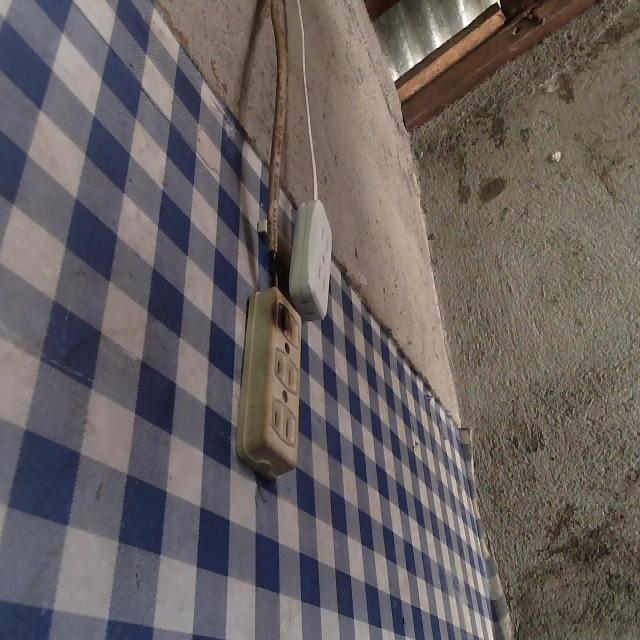-: (261, 291, 298, 345)
